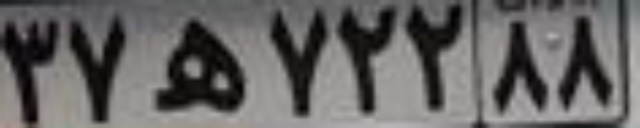2: (403, 1, 463, 110), (337, 5, 395, 114)
3: (1, 18, 60, 123)
7: (66, 11, 131, 123), (270, 6, 329, 117)
8: (557, 14, 617, 112), (485, 19, 548, 111)
he: (148, 17, 249, 111)
